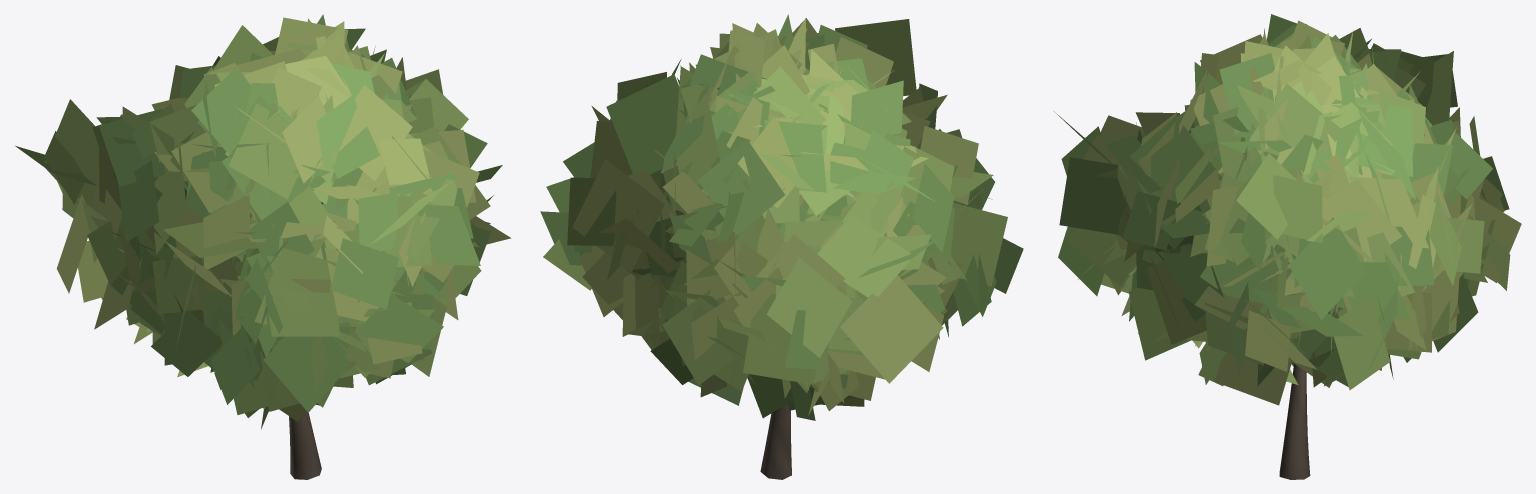
Rendered from maple_0.glb.
The picture shows the model from 3 angles, left to right: view 1: azimuth 30°, elevation 25°; view 2: azimuth 150°, elevation 25°; view 3: azimuth 270°, elevation 25°; orthographic projection.
Visible parts, largest first — view 1: maple_0; view 2: maple_0; view 3: maple_0.
Boxes of the visible parts, <box> form: maple_0: <box>15,14,511,479</box>; maple_0: <box>540,14,1023,479</box>; maple_0: <box>1054,14,1521,479</box>.
Size of the model in its own units: 1 by 1 by 0.9635.
